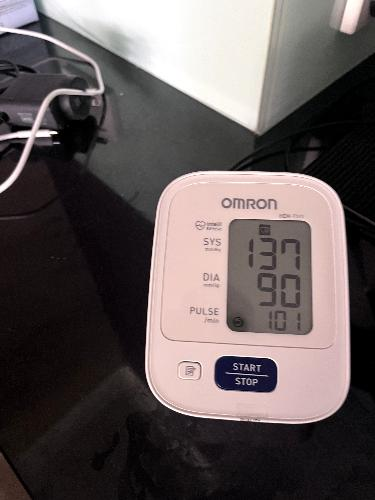bpm: (225, 217, 318, 336)
